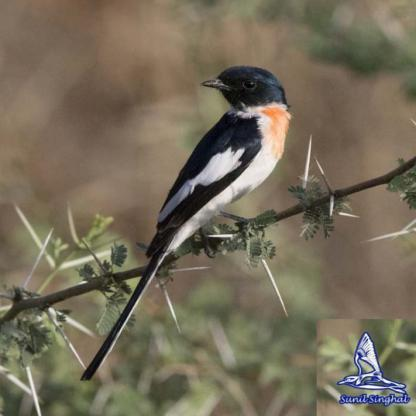Burung: (80, 65, 286, 380)
